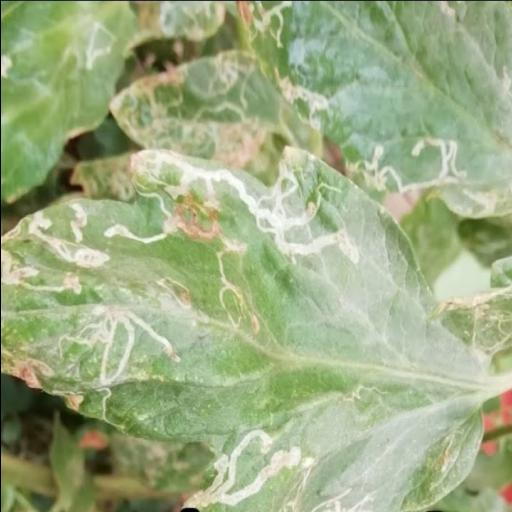Leaf Miner: (0, 146, 485, 512)
